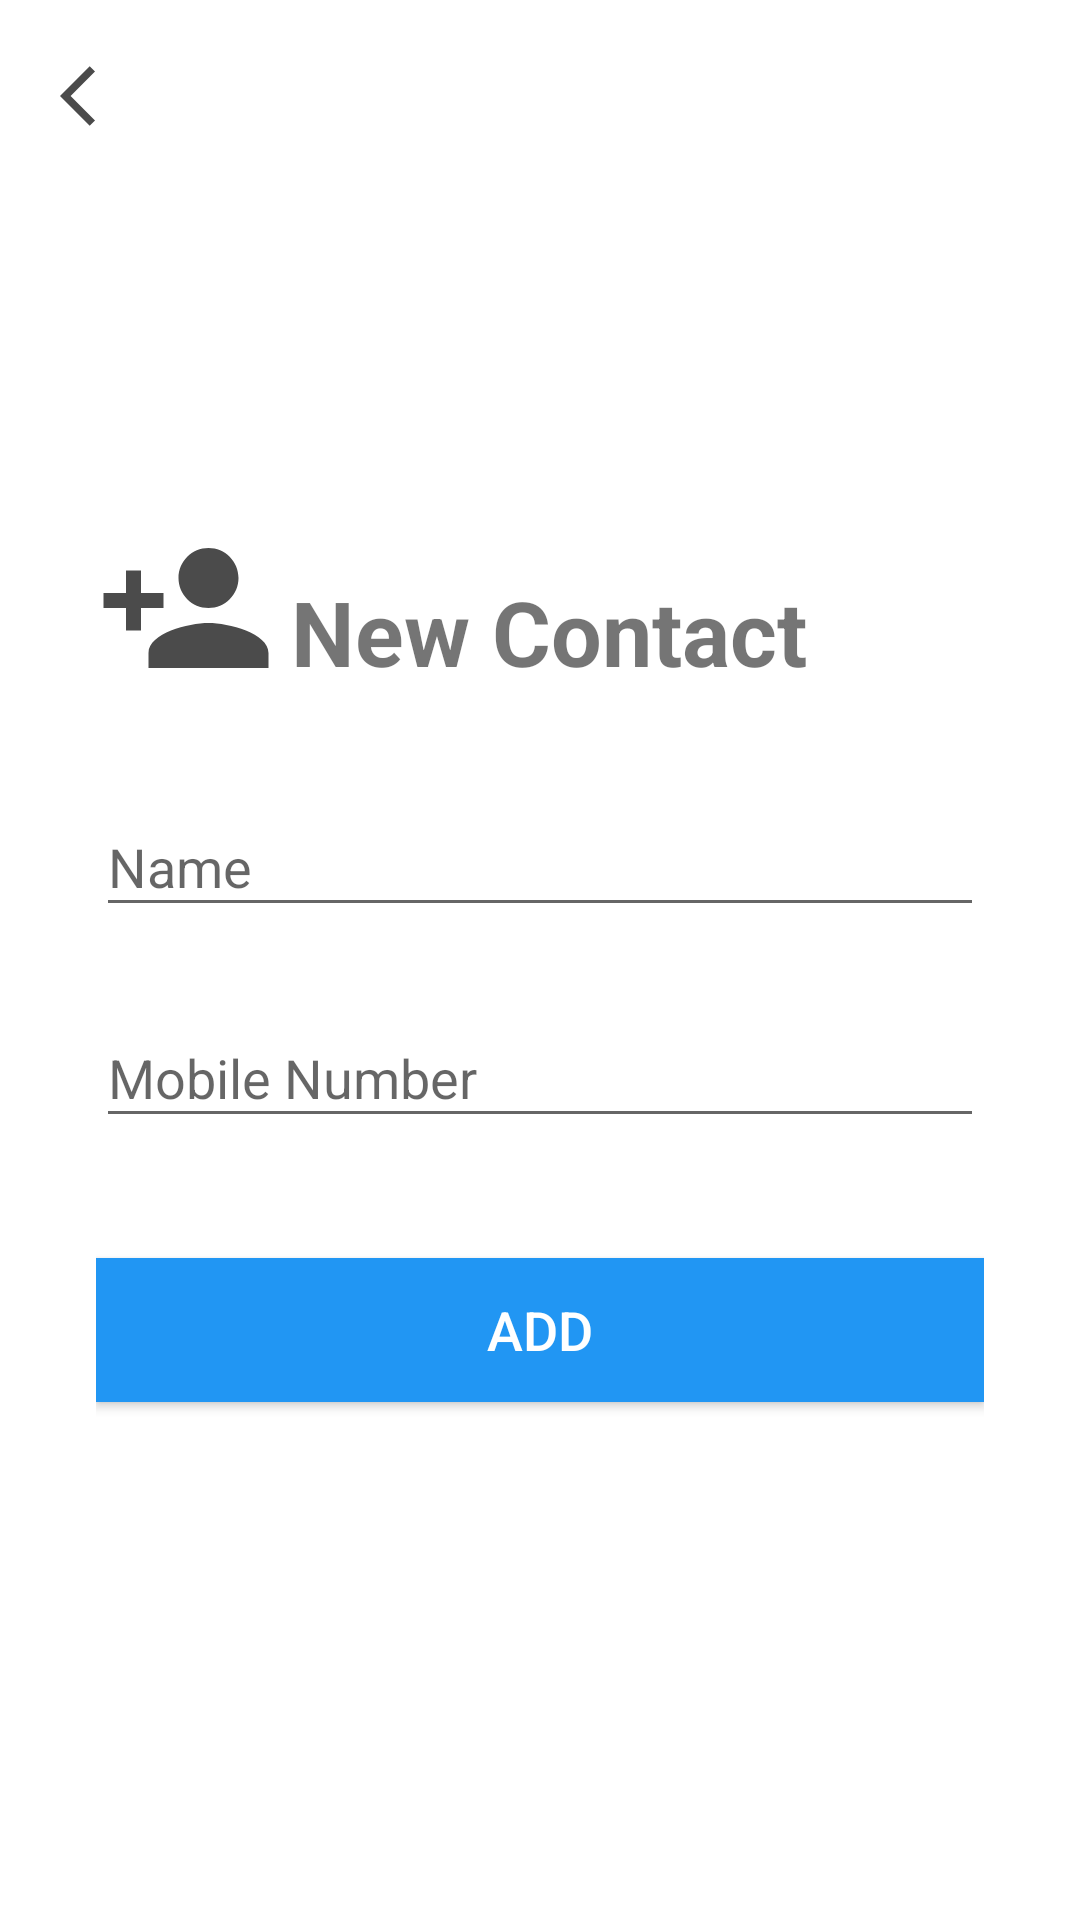

Named icons in this screenshot (1080×1920) and their centers, [x,y]:
back: [77,96]
